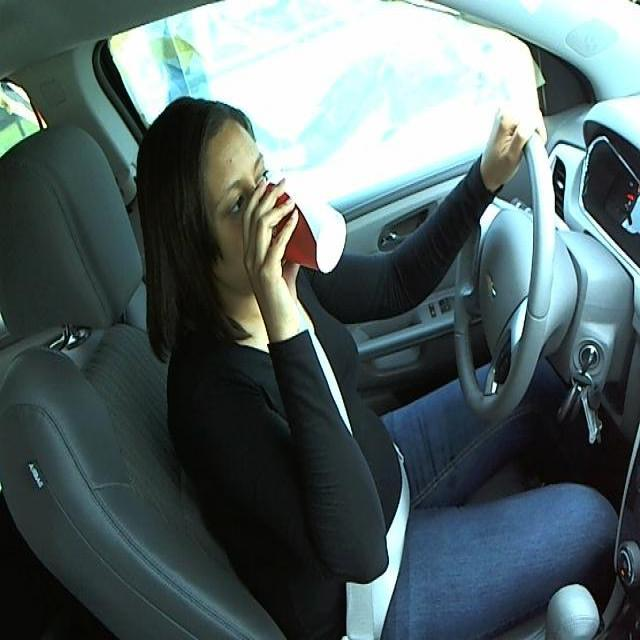drinking: (254, 175, 347, 275)
